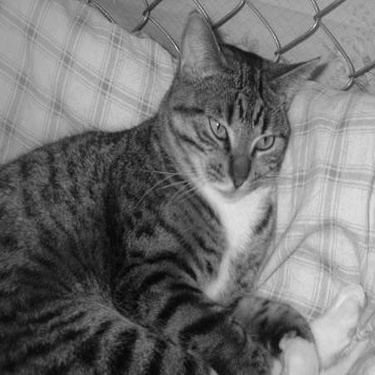cat: (1, 2, 323, 368)
